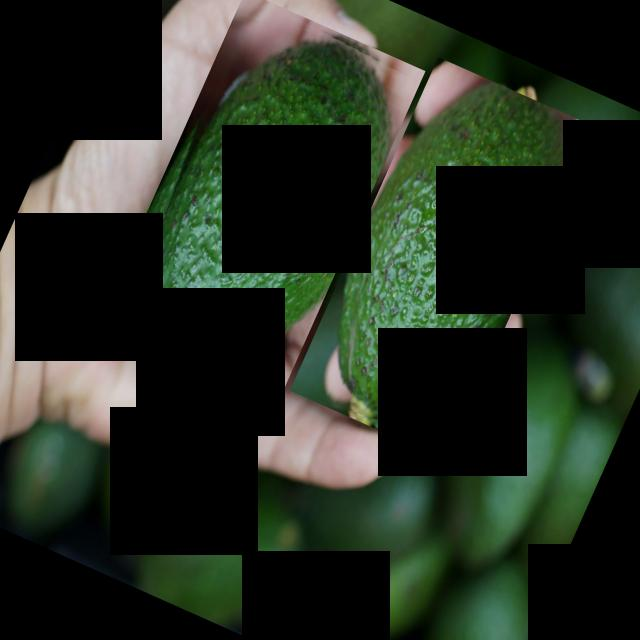avocado: (90, 0, 425, 420), (290, 58, 596, 460)
